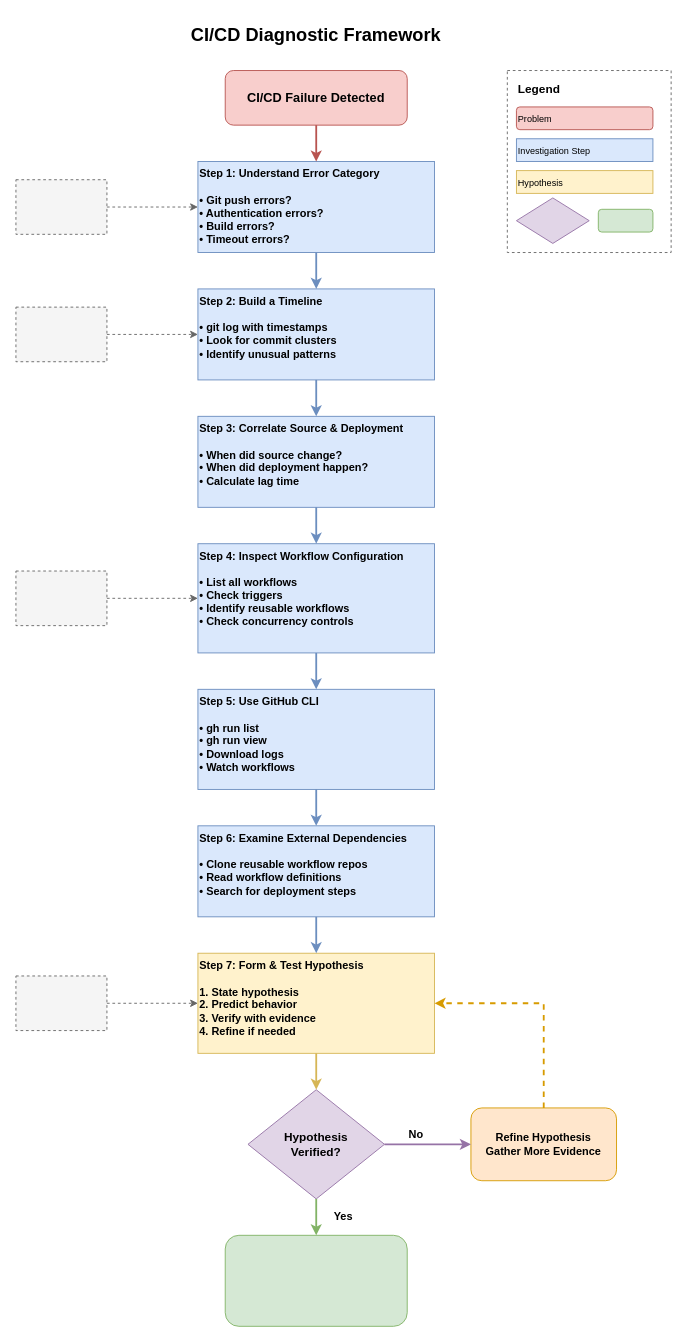
The diagram is 687 pixels wide and 1342 high, and some of its shapes have lost their labels. Each missing label, with the box of its shape:
Analyze & Test: (15, 975, 107, 1031)
Categorize the Problem: (15, 179, 107, 234)
Decision Point: (516, 197, 589, 243)
Gather Evidence: (15, 306, 107, 362)
Inspect Configuration: (15, 570, 107, 626)
Solution: (597, 208, 653, 232)
Solution Found! • Apply fix • Document findings • Prevent future issues: (224, 1234, 407, 1326)
